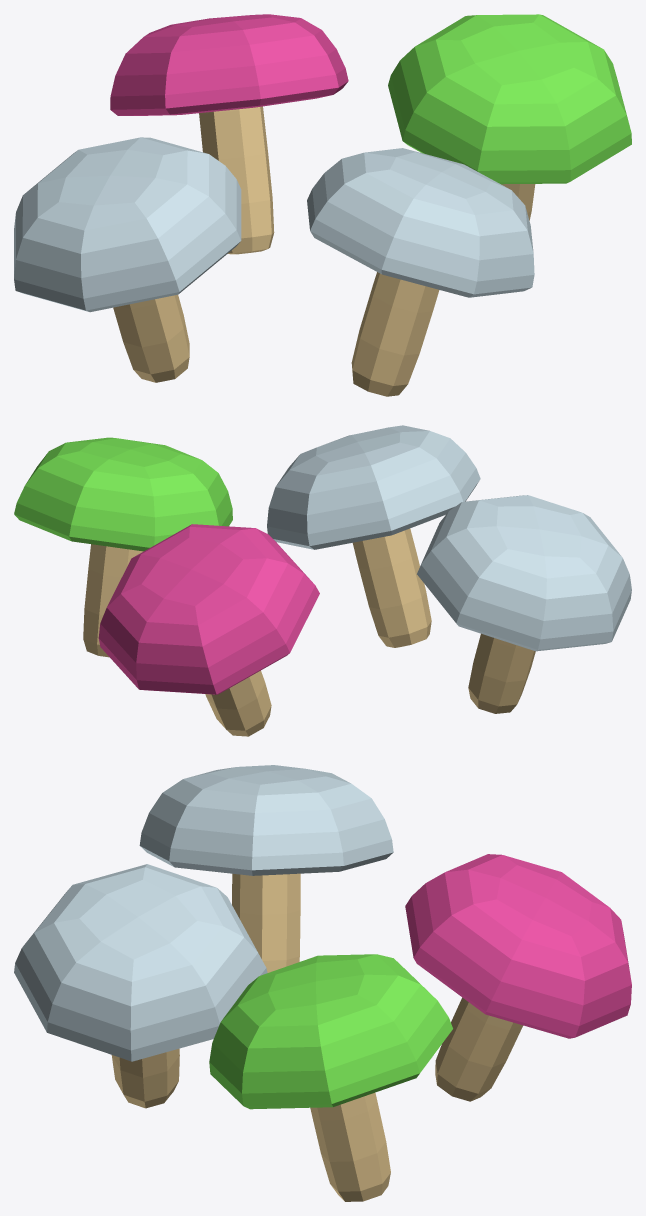
The model's file is mushroom2.fbx.
3 renders of one model, top to bottom at view 1: azimuth 30°, elevation 25°; view 2: azimuth 150°, elevation 25°; view 3: azimuth 270°, elevation 25°, orthographic. The views are drawn at different scales.
Parts seen in each view (by area): view 1: Mushroom2; view 2: Mushroom2; view 3: Mushroom2.
Boxes of the visible parts, x1,y1,x2,y2 form: Mushroom2: (14,14,631,396); Mushroom2: (14,425,631,736); Mushroom2: (14,765,631,1201).
Size of the model in its own units: 35.25 by 12.88 by 29.89.
